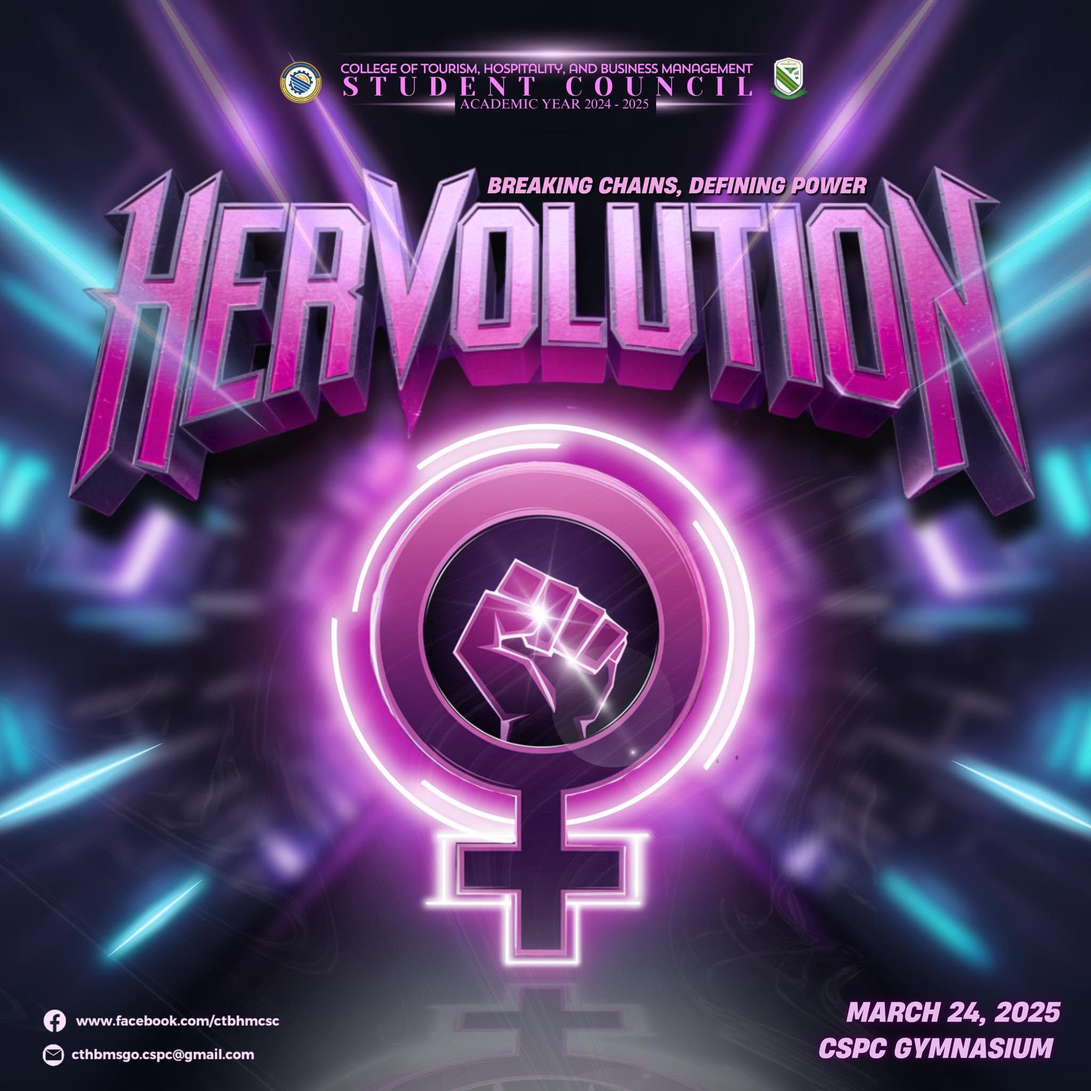logo: (278, 59, 323, 105), (770, 56, 806, 100)
text: (66, 159, 1038, 527), (343, 75, 753, 97), (487, 177, 868, 197), (338, 61, 754, 75), (845, 1000, 1061, 1025), (818, 1038, 1054, 1060), (71, 1047, 254, 1063), (74, 1014, 279, 1028), (459, 98, 649, 109)
